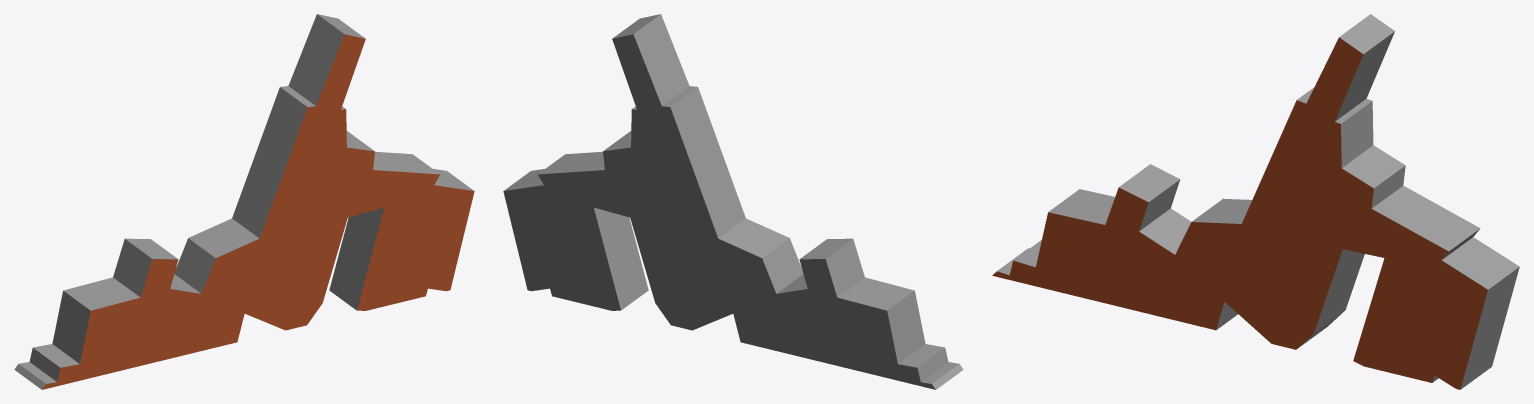
Rendered from construction_6493_assumed_A_Casa_h6m.obj.
The picture shows the model from 3 angles, left to right: view 1: azimuth 30°, elevation 25°; view 2: azimuth 150°, elevation 25°; view 3: azimuth 330°, elevation 25°; orthographic projection. The views are drawn at different scales.
Parts seen in each view (by area): view 1: construction_6493_assumed_A_Casa; view 2: construction_6493_assumed_A_Casa; view 3: construction_6493_assumed_A_Casa.
Boxes of the visible parts, <box> form: construction_6493_assumed_A_Casa: <box>14,14,474,389</box>; construction_6493_assumed_A_Casa: <box>503,14,963,389</box>; construction_6493_assumed_A_Casa: <box>992,14,1519,389</box>.
Bounding box in the file's own units: 54.2 × 33.75 × 6.
